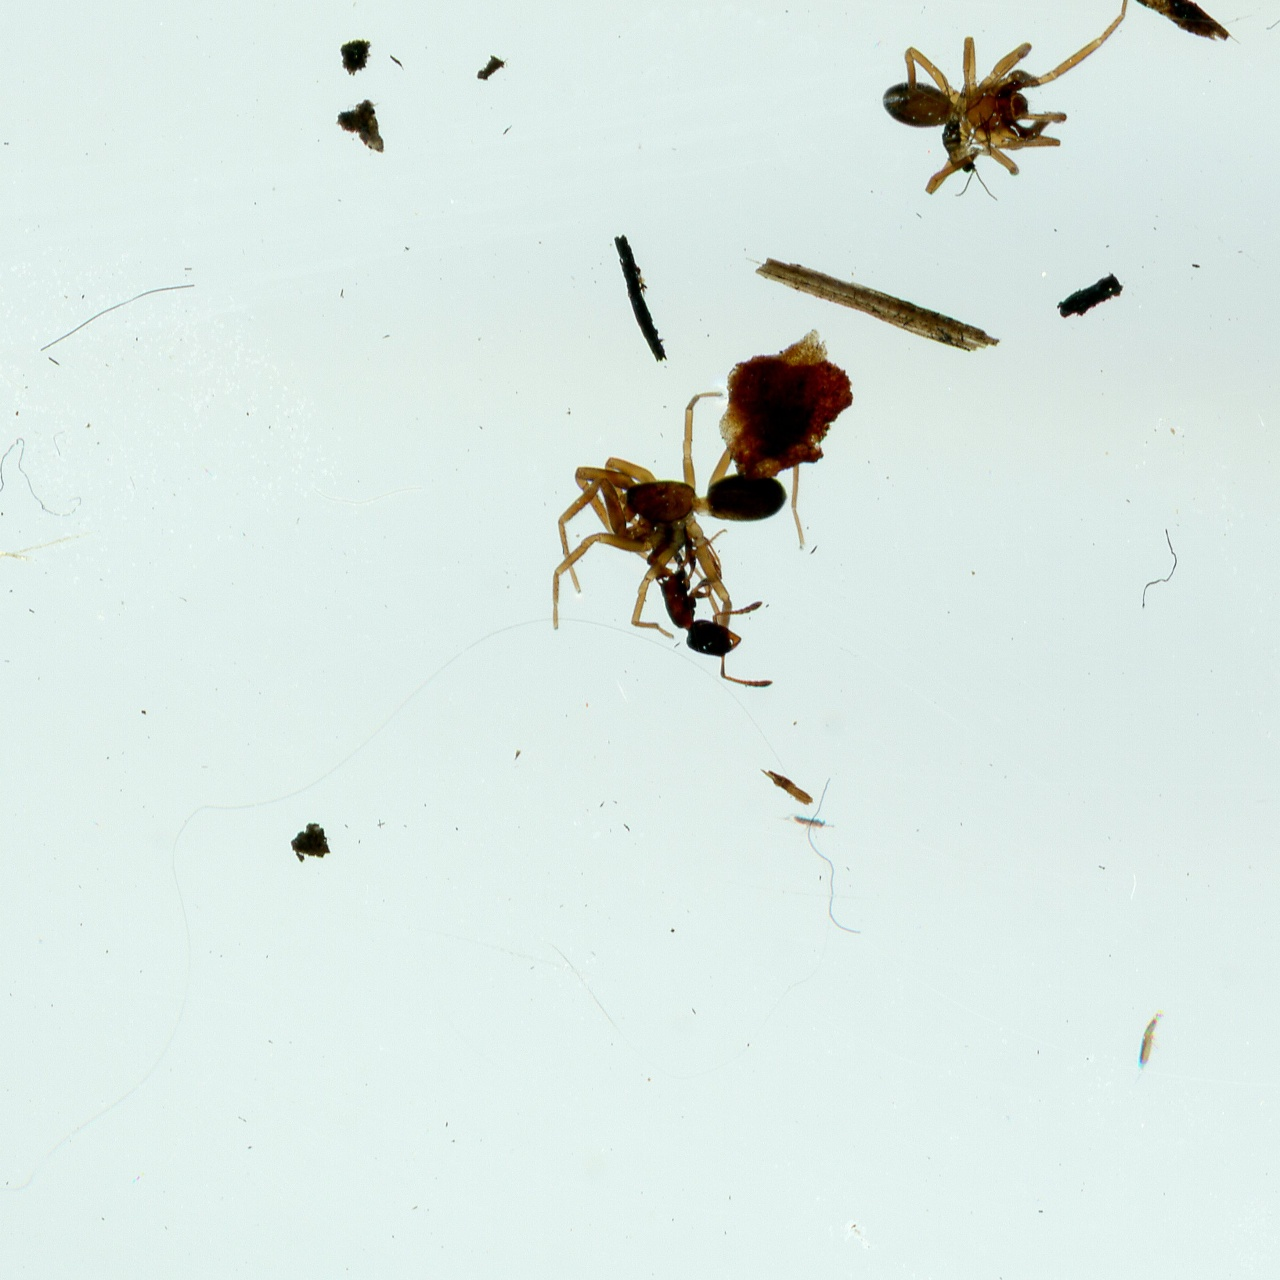arthropod: (547, 386, 807, 643), (881, 0, 1132, 197), (603, 502, 810, 729), (936, 77, 1005, 205), (1133, 1008, 1166, 1083), (791, 811, 835, 838)
